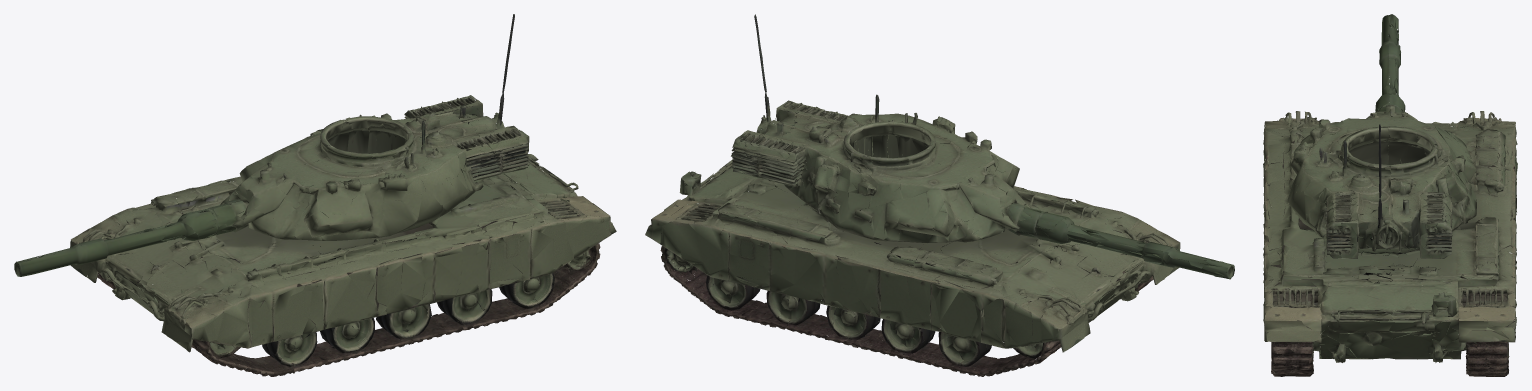
File: tank_altay.glb
3 views of the same model, side by side, from view 1: azimuth 30°, elevation 25°; view 2: azimuth 150°, elevation 25°; view 3: azimuth 270°, elevation 25° (orthographic). The views are drawn at different scales.
Visible parts, largest first — view 1: govde, kule, namlu; view 2: govde, kule, namlu; view 3: kule, govde, namlu.
Part boxes in pixels (<box>): govde: <box>70,130,616,376</box>; kule: <box>151,14,547,276</box>; namlu: <box>14,197,247,276</box>; govde: <box>645,136,1180,376</box>; kule: <box>681,14,1098,284</box>; namlu: <box>1001,203,1234,279</box>; kule: <box>1281,105,1506,308</box>; govde: <box>1263,111,1517,376</box>; namlu: <box>1375,14,1405,112</box>.
Size of the model in its own units: 9.75 by 4.44 by 3.88.
1 material, 1 textured.
